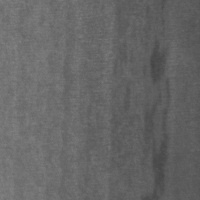inclusion: (141, 27, 178, 199)
